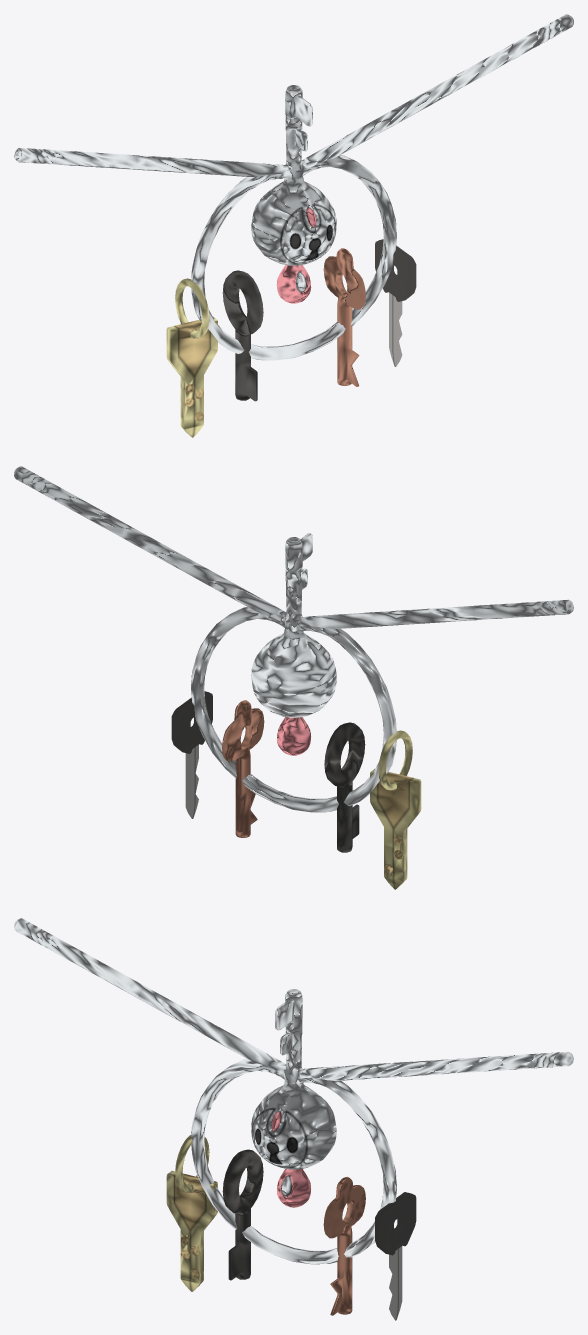
Rendered from XY_Klefki.obj.
The picture shows the model from 3 angles, top to bottom: view 1: azimuth 30°, elevation 25°; view 2: azimuth 150°, elevation 25°; view 3: azimuth 330°, elevation 25°; orthographic projection.
Visible parts, largest first — view 1: KlefkiA, Klefki, KlefkiB; view 2: KlefkiA, Klefki, KlefkiB; view 3: KlefkiA, Klefki, KlefkiB.
Part boxes in pixels (left/top/right/bottom): KlefkiA: left=191, top=85, right=396, bottom=360; Klefki: left=166, top=239, right=416, bottom=437; KlefkiB: left=14, top=14, right=573, bottom=177; KlefkiA: left=191, top=533, right=396, bottom=812; Klefki: left=171, top=691, right=421, bottom=889; KlefkiB: left=14, top=466, right=573, bottom=631; KlefkiA: left=191, top=989, right=396, bottom=1264; Klefki: left=166, top=1135, right=416, bottom=1320; KlefkiB: left=14, top=918, right=573, bottom=1083.
Size of the model in its own units: 54.21 by 30.66 by 7.19.
